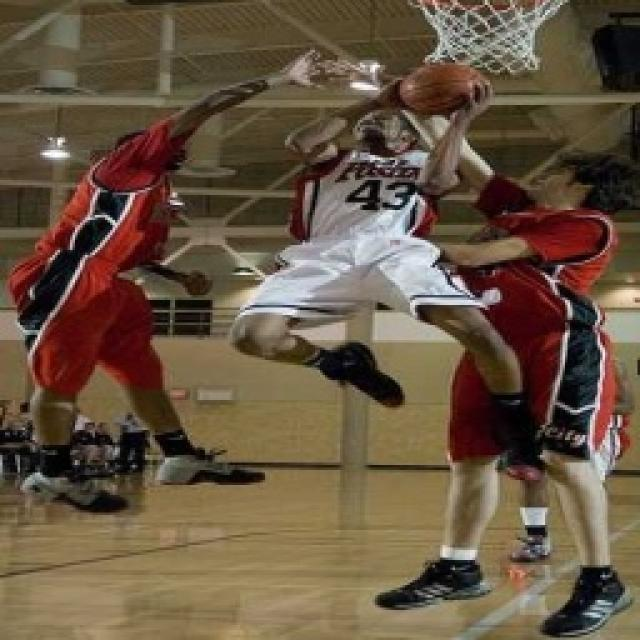rim: (393, 55, 501, 127)
